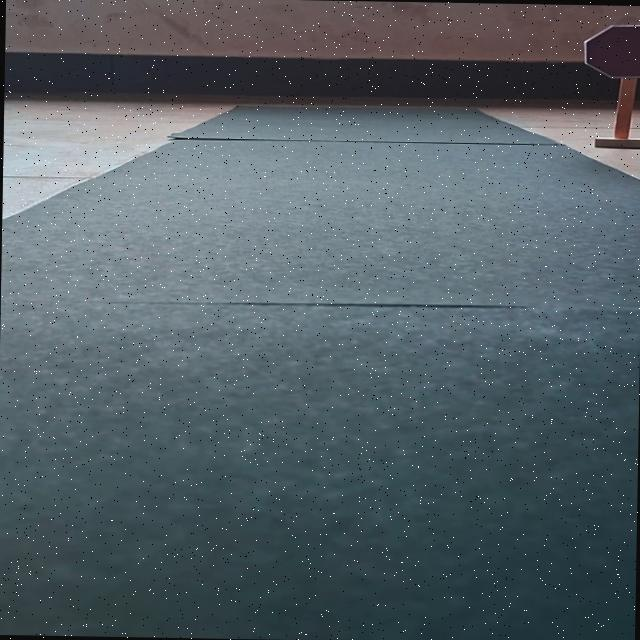Stop: (580, 21, 640, 77)
